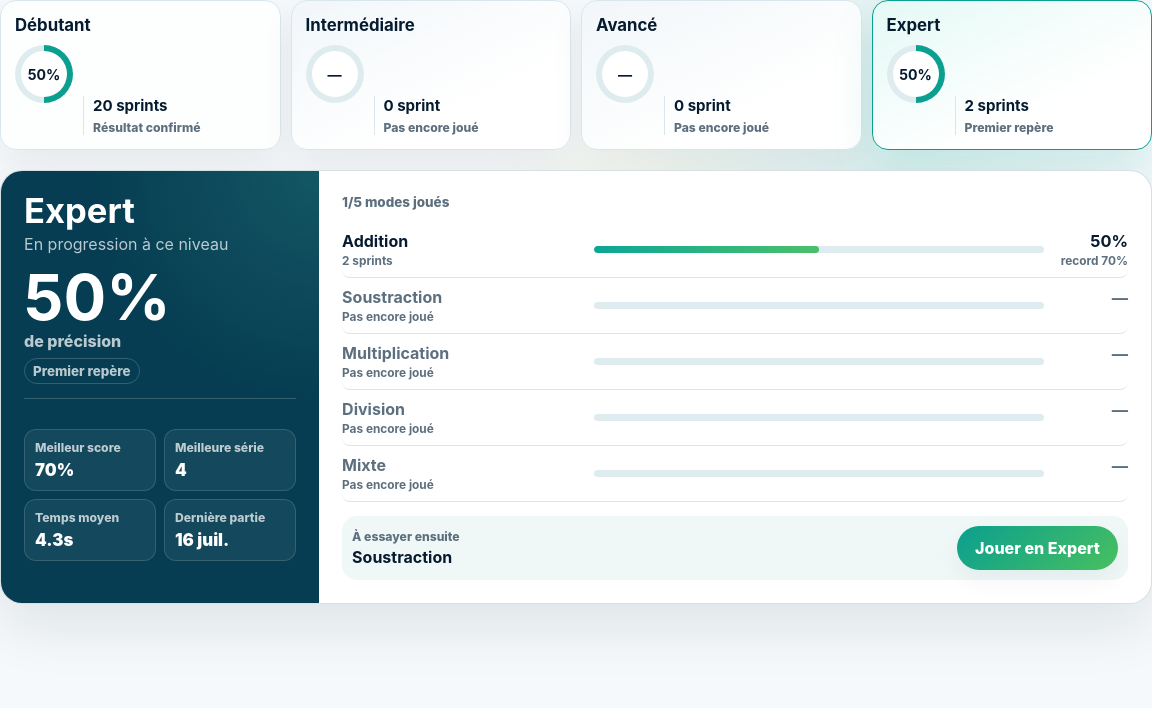
Test: PerformanceCockpit › récupère au moins un point même si le sprint est absent de l’historique global
Step 1. Click the button "Débutant 50% 20 sprints Résultat confirmé" → (53, 25), box top-left (0, 0), bottom-right (280, 150)
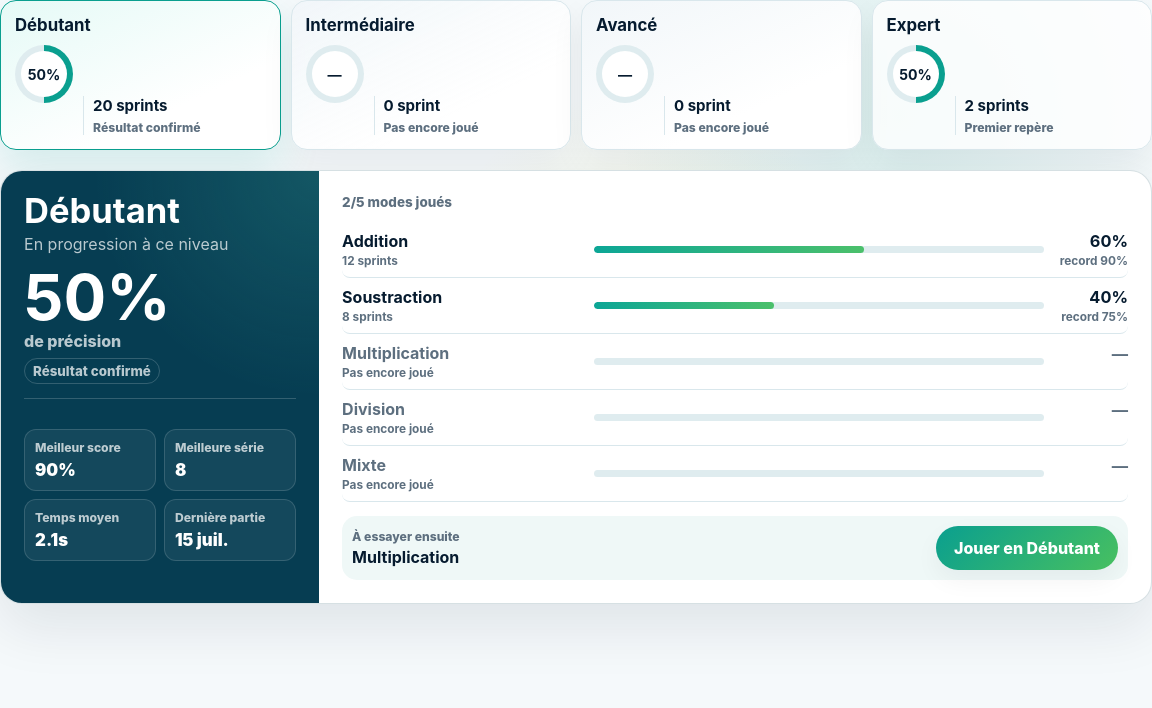
Step 2. Click the button "Soustraction 8 sprints 40% record 75%" → (735, 306), box top-left (342, 278), bottom-right (1128, 334)
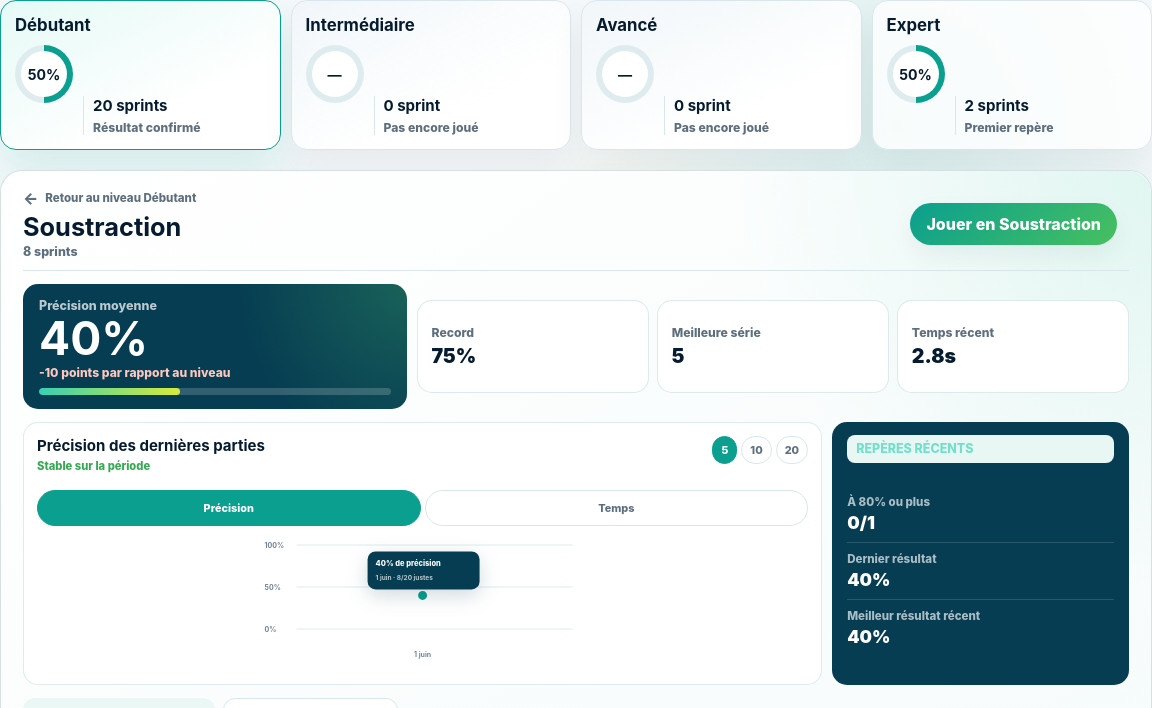
Expected: the text "40% de précision" is shown, top-left (376, 559), bottom-right (441, 568)
Expected: the picture named "Évolution de la précision sur 1 partie" is shown, top-left (37, 535), bottom-right (808, 663)
